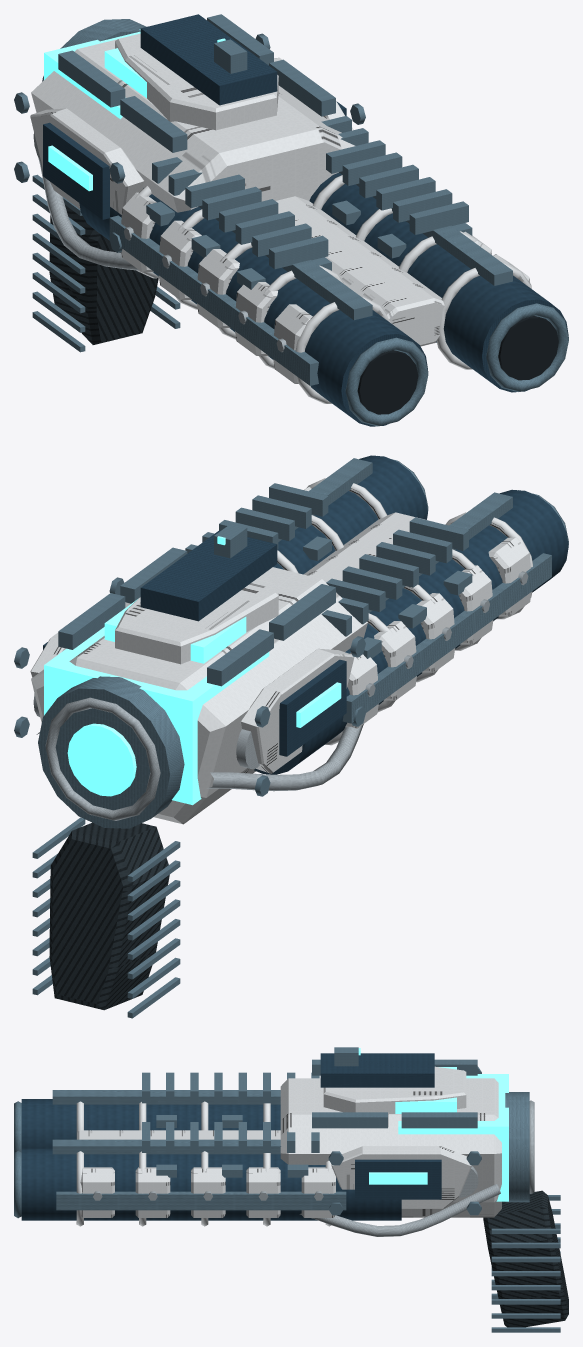
The model's file is double-barrel-shotgun-lod0.glb.
3 views of the same model, one above another, from view 1: azimuth 30°, elevation 25°; view 2: azimuth 150°, elevation 25°; view 3: azimuth 270°, elevation 25° (orthographic). The views are drawn at different scales.
Parts seen in each view (by area): view 1: weapon:receiver, weapon:barrel-shroud:1, weapon:barrel-shroud:-1, weapon:bridge, weapon:grip, weapon:sight:base, weapon:receiver:top-armour, weapon:barrel-rail:side:-1, weapon:side-plate:-1, weapon:service-port:-1, weapon:muzzle-opening:-1, weapon:muzzle-opening:1 (+42 smaller); view 2: weapon:grip, weapon:receiver, weapon:breech:rear-housing, weapon:barrel-shroud:-1, weapon:sight:base, weapon:receiver:top-armour, weapon:energy-chamber, weapon:barrel-shroud:1, weapon:barrel-rail:side:-1, weapon:side-plate:-1, weapon:breech:core, weapon:breech:seal (+26 smaller); view 3: weapon:barrel-shroud:1, weapon:receiver, weapon:barrel-shroud:-1, weapon:grip, weapon:barrel-rail:side:1, weapon:sight:base, weapon:side-plate:1, weapon:receiver:top-armour, weapon:barrel-rail:1, weapon:service-port:1, weapon:barrel-rail:-1, weapon:breech:rear-housing (+26 smaller).
Boxes of the visible parts, <box> form: weapon:receiver: <box>31,39,354,212</box>; weapon:barrel-shroud:1: <box>309,172,568,392</box>; weapon:barrel-shroud:-1: <box>79,188,427,426</box>; weapon:bridge: <box>276,196,444,346</box>; weapon:grip: <box>49,205,158,344</box>; weapon:sight:base: <box>140,14,277,105</box>; weapon:receiver:top-armour: <box>115,33,278,130</box>; weapon:barrel-rail:side:-1: <box>109,215,318,385</box>; weapon:side-plate:-1: <box>30,108,144,214</box>; weapon:service-port:-1: <box>43,122,109,219</box>; weapon:muzzle-opening:-1: <box>357,350,418,414</box>; weapon:muzzle-opening:1: <box>498,316,558,380</box>; weapon:grip: <box>49,822,169,1010</box>; weapon:receiver: <box>31,567,367,824</box>; weapon:breech:rear-housing: <box>38,676,184,828</box>; weapon:barrel-shroud:-1: <box>254,489,568,774</box>; weapon:sight:base: <box>140,530,277,621</box>; weapon:receiver:top-armour: <box>115,570,278,664</box>; weapon:energy-chamber: <box>44,627,269,805</box>; weapon:barrel-shroud:1: <box>273,455,427,574</box>; weapon:barrel-rail:side:-1: <box>342,553,551,723</box>; weapon:side-plate:-1: <box>240,648,354,773</box>; weapon:breech:core: <box>67,723,136,796</box>; weapon:breech:seal: <box>45,697,160,820</box>; weapon:barrel-shroud:1: <box>21,1148,401,1220</box>; weapon:receiver: <box>280,1078,501,1217</box>; weapon:barrel-shroud:-1: <box>21,1099,280,1148</box>; weapon:grip: <box>483,1190,568,1327</box>; weapon:barrel-rail:side:1: <box>56,1191,346,1210</box>; weapon:sight:base: <box>320,1053,434,1087</box>; weapon:side-plate:1: <box>331,1146,471,1208</box>; weapon:receiver:top-armour: <box>323,1066,466,1114</box>; weapon:barrel-rail:1: <box>52,1139,281,1154</box>; weapon:service-port:1: <box>355,1159,441,1199</box>; weapon:barrel-rail:-1: <box>52,1090,280,1104</box>; weapon:breech:rear-housing: <box>505,1092,529,1202</box>.
Size of the model in its own units: 0.4538 by 0.6247 by 1.16.
Materials: 7 (5 with a texture image).
